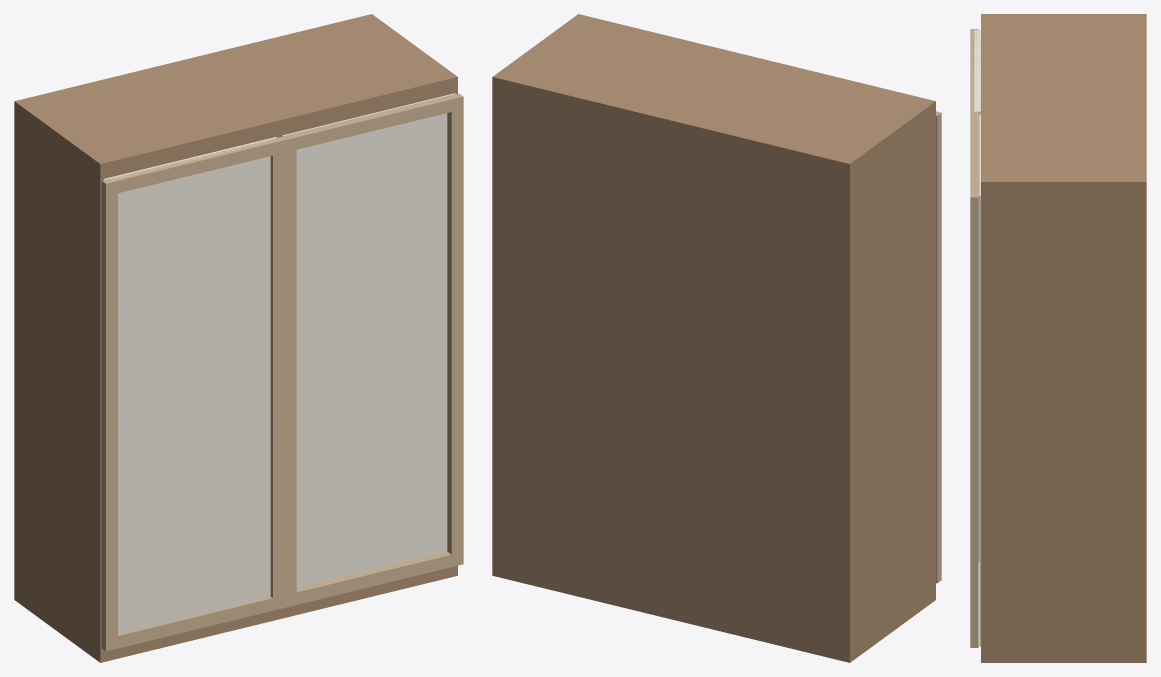
The model's file is storage_closet.glb.
3 renders of one model, left to right at view 1: azimuth 30°, elevation 25°; view 2: azimuth 150°, elevation 25°; view 3: azimuth 270°, elevation 25°, orthographic. The views are drawn at different scales.
Visible parts, largest first — view 1: storage_closet; view 2: storage_closet; view 3: storage_closet.
Boxes of the visible parts, left/top/right/bottom form: storage_closet: left=14, top=14, right=463, bottom=662; storage_closet: left=492, top=14, right=941, bottom=662; storage_closet: left=970, top=14, right=1146, bottom=662.
Size of the model in its own units: 1.2 by 1.6 by 0.5325.
